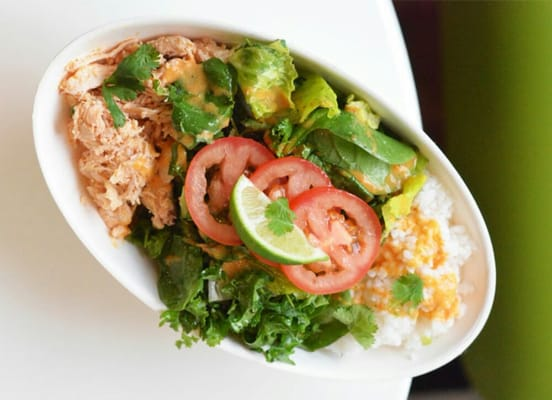curry: (101, 42, 163, 128)
sushi: (17, 6, 496, 392)
